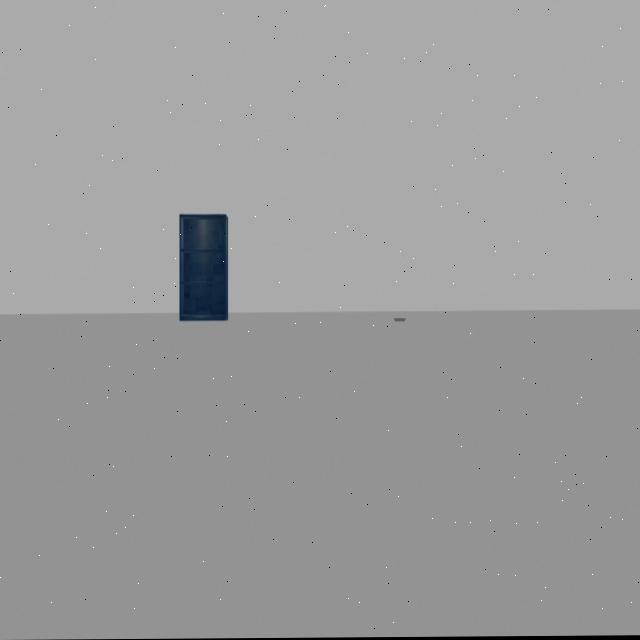bowl: (390, 312, 411, 326)
shelf: (171, 207, 235, 332)
